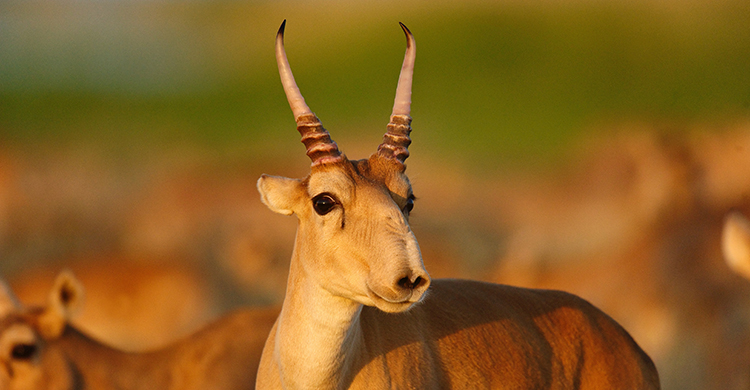saiga: (254, 19, 664, 390)
